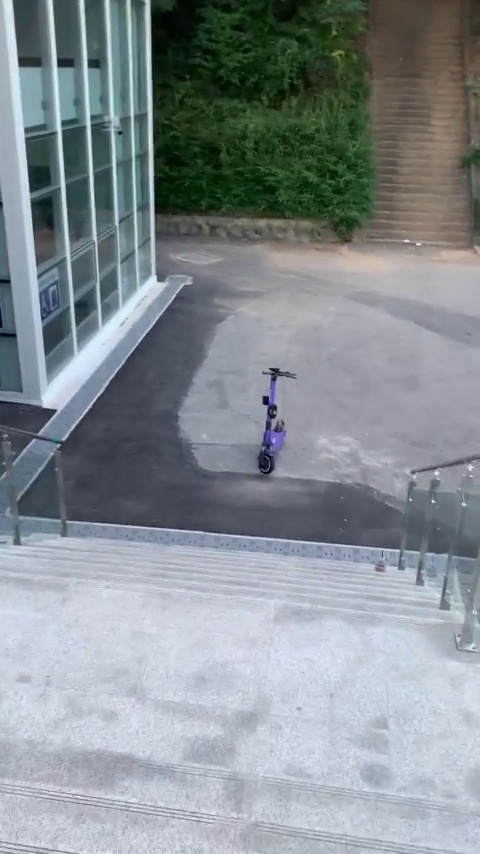beam: (240, 357, 300, 482)
